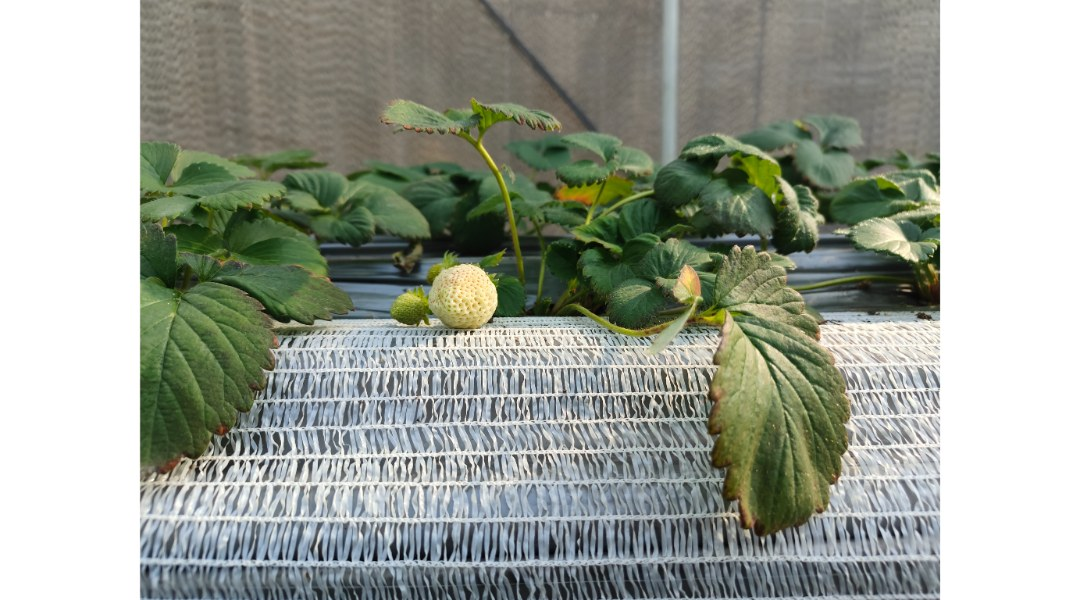berry: (423, 257, 507, 340), (370, 286, 440, 336)
strain: (487, 153, 522, 288)
